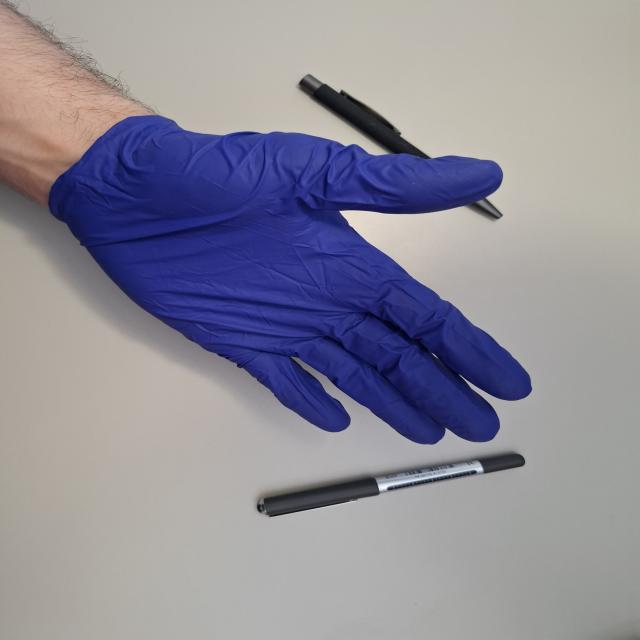glove_on: (48, 114, 539, 448)
